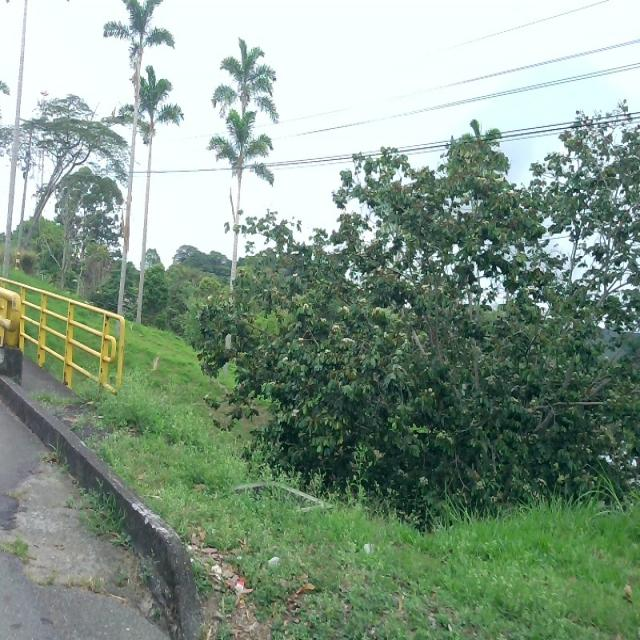DITCH: (2, 1, 638, 638), (1, 364, 204, 638)
